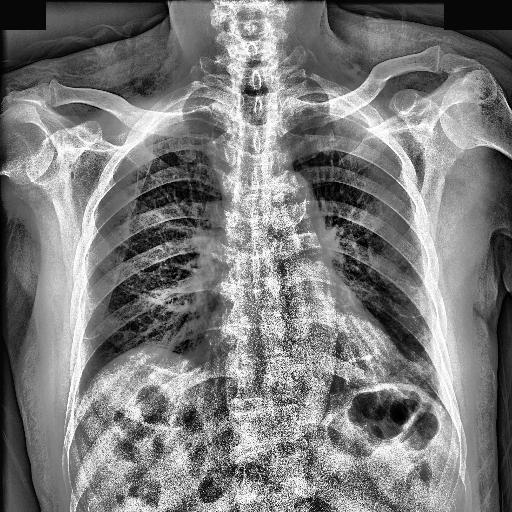0- Aortic enlargement: (249, 164, 319, 238), (262, 168, 324, 245), (266, 174, 316, 234)
11- Pleural thickening: (282, 92, 381, 132), (148, 94, 230, 132), (293, 90, 366, 116), (158, 97, 223, 116)
3- Cardiomegaly: (190, 326, 404, 400), (198, 320, 404, 388), (195, 327, 410, 385)
